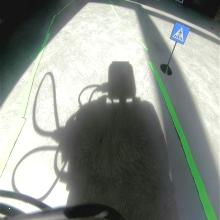crosswalk: (169, 20, 190, 45)
